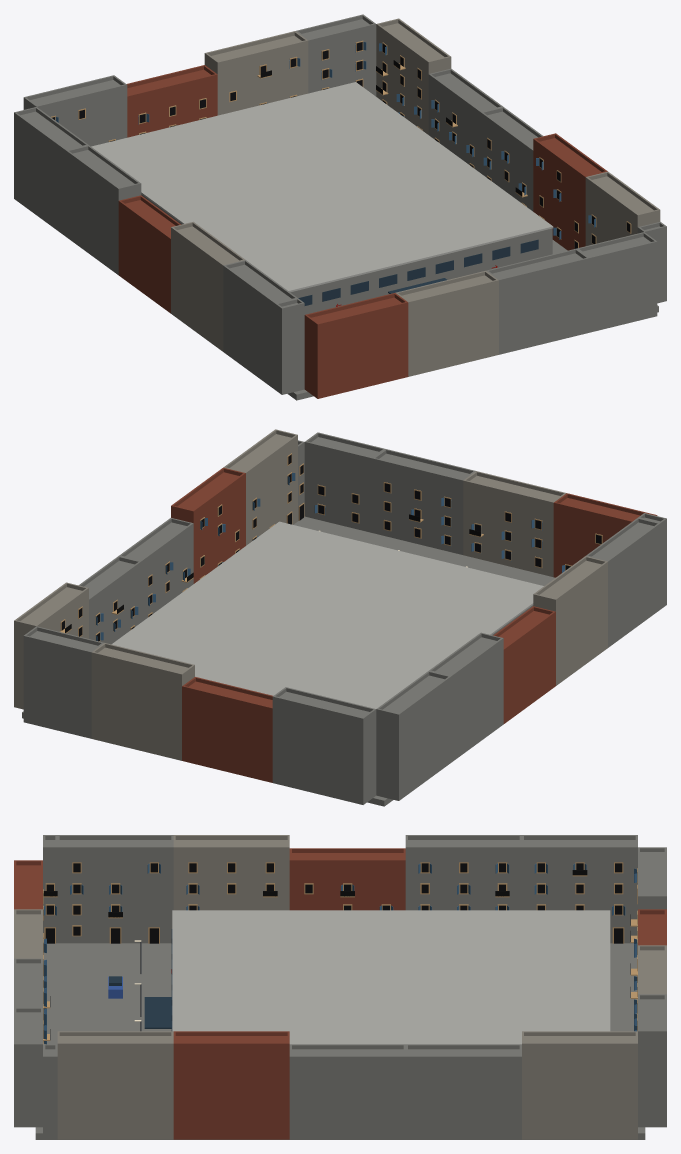
File: office.glb
3 views of the same model, one above another, from view 1: azimuth 30°, elevation 25°; view 2: azimuth 150°, elevation 25°; view 3: azimuth 270°, elevation 25° (orthographic). The views are drawn at different scales.
Parts seen in each view (by area): view 1: Roof1, Building2, Building6, Building4, Building8, Building12, Building10, Building16, Building18, Building5, Building14, Building15 (+12 smaller); view 2: Roof1, Building1, Building5, Building3, Building10, Building6, Building4, Building7, Building16, Building18, Building12, Building8 (+9 smaller); view 3: Roof1, Street1, Building15, Building17, Building9, Building18, Building11, Building13, Building10, Building16, Building12, Building14 (+31 smaller).
Boxes of the visible parts, x1=… form: Roof1: x1=91, y1=82, x2=553, y2=292; Building2: x1=304, y1=297, x2=408, y2=398; Building6: x1=492, y1=253, x2=589, y2=354; Building4: x1=402, y1=275, x2=498, y2=376; Building8: x1=583, y1=236, x2=657, y2=332; Building12: x1=66, y1=150, x2=141, y2=274; Building10: x1=14, y1=111, x2=81, y2=236; Building16: x1=171, y1=226, x2=238, y2=351; Building18: x1=223, y1=264, x2=291, y2=389; Building5: x1=204, y1=35, x2=308, y2=115; Building14: x1=118, y1=200, x2=175, y2=313; Building15: x1=533, y1=138, x2=601, y2=250; Roof1: x1=111, y1=521, x2=543, y2=708; Building1: x1=272, y1=691, x2=376, y2=804; Building5: x1=91, y1=647, x2=194, y2=760; Building3: x1=182, y1=681, x2=272, y2=782; Building10: x1=376, y1=675, x2=451, y2=800; Building6: x1=372, y1=453, x2=469, y2=554; Building4: x1=463, y1=475, x2=559, y2=577; Building7: x1=23, y1=631, x2=97, y2=738; Building16: x1=533, y1=560, x2=607, y2=685; Building18: x1=592, y1=522, x2=660, y2=647; Building12: x1=435, y1=637, x2=503, y2=762; Building8: x1=304, y1=437, x2=378, y2=532; Roof1: x1=172, y1=910, x2=610, y2=1044; Street1: x1=35, y1=943, x2=645, y2=1139; Building15: x1=173, y1=1036, x2=289, y2=1139; Building17: x1=57, y1=1036, x2=173, y2=1139; Building9: x1=522, y1=1036, x2=637, y2=1139; Building18: x1=57, y1=840, x2=173, y2=943; Building11: x1=405, y1=1049, x2=521, y2=1139; Building13: x1=289, y1=1049, x2=405, y2=1139; Building10: x1=522, y1=840, x2=637, y2=943; Building16: x1=173, y1=840, x2=289, y2=910; Building12: x1=405, y1=840, x2=521, y2=910; Building14: x1=289, y1=853, x2=405, y2=910.
Bounding box in the file's own units: 68 × 15.6 × 90.
